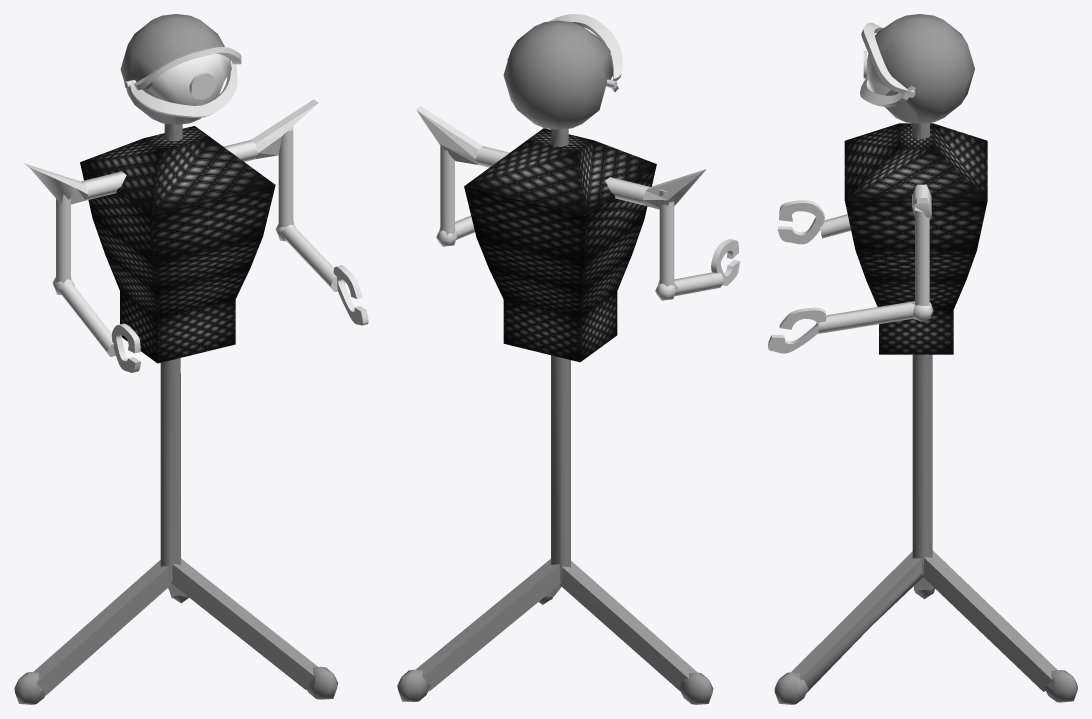
Rendered from BasicBot.FBX.
The picture shows the model from 3 angles, left to right: view 1: azimuth 30°, elevation 25°; view 2: azimuth 150°, elevation 25°; view 3: azimuth 270°, elevation 25°; orthographic projection.
Parts seen in each view (by area): view 1: Box006, Cylinder001, Cylinder004, Line002, Cylinder005, Cylinder008, Cylinder006, Cylinder007, Line004, Line003, Line005, Cylinder003; view 2: Box006, Cylinder001, Cylinder004, Cylinder006, Cylinder005, Line003, Line005, Cylinder008; view 3: Box006, Cylinder001, Cylinder007, Cylinder005, Line005, Line004, Line003, Line002, Cylinder004, Cylinder008.
Part boxes in pixels (x1,y1,x2,y2): Box006: (14, 126, 338, 704); Cylinder001: (120, 14, 231, 141); Cylinder004: (24, 99, 318, 204); Line002: (130, 60, 237, 117); Cylinder005: (278, 126, 293, 228); Cylinder008: (58, 282, 115, 356); Cylinder006: (56, 194, 70, 283); Cylinder007: (277, 225, 345, 291); Line004: (333, 265, 368, 325); Line003: (134, 46, 241, 90); Line005: (111, 323, 140, 372); Cylinder003: (189, 72, 215, 99); Box006: (397, 128, 713, 704); Cylinder001: (503, 20, 613, 146); Cylinder004: (416, 106, 706, 209); Cylinder006: (659, 189, 674, 286); Cylinder005: (440, 145, 454, 235); Line003: (549, 14, 622, 80); Line005: (711, 239, 739, 285); Cylinder008: (674, 272, 724, 296); Box006: (774, 123, 1077, 704); Cylinder001: (867, 14, 974, 139); Cylinder007: (818, 301, 914, 333); Cylinder005: (915, 207, 929, 305); Line005: (777, 200, 824, 244); Line004: (768, 307, 826, 353); Line003: (861, 22, 907, 94); Line002: (860, 77, 915, 107); Cylinder004: (912, 122, 931, 219); Cylinder008: (820, 214, 850, 238).
Bounding box in the file's own units: 29.9 × 62.18 × 26.98.
